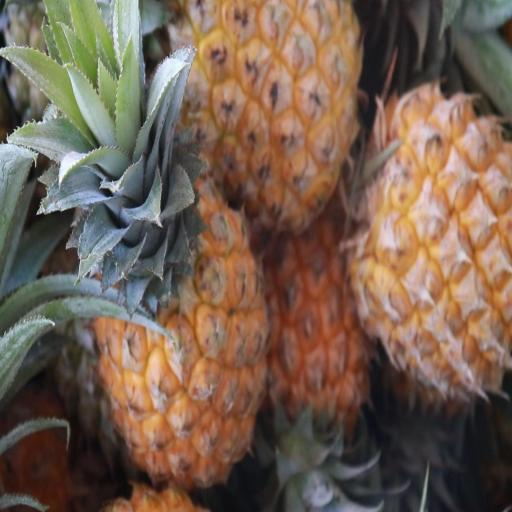Pineapple - v8 v1: (84, 128, 271, 488), (357, 81, 512, 391), (192, 0, 366, 221), (268, 209, 398, 433)
